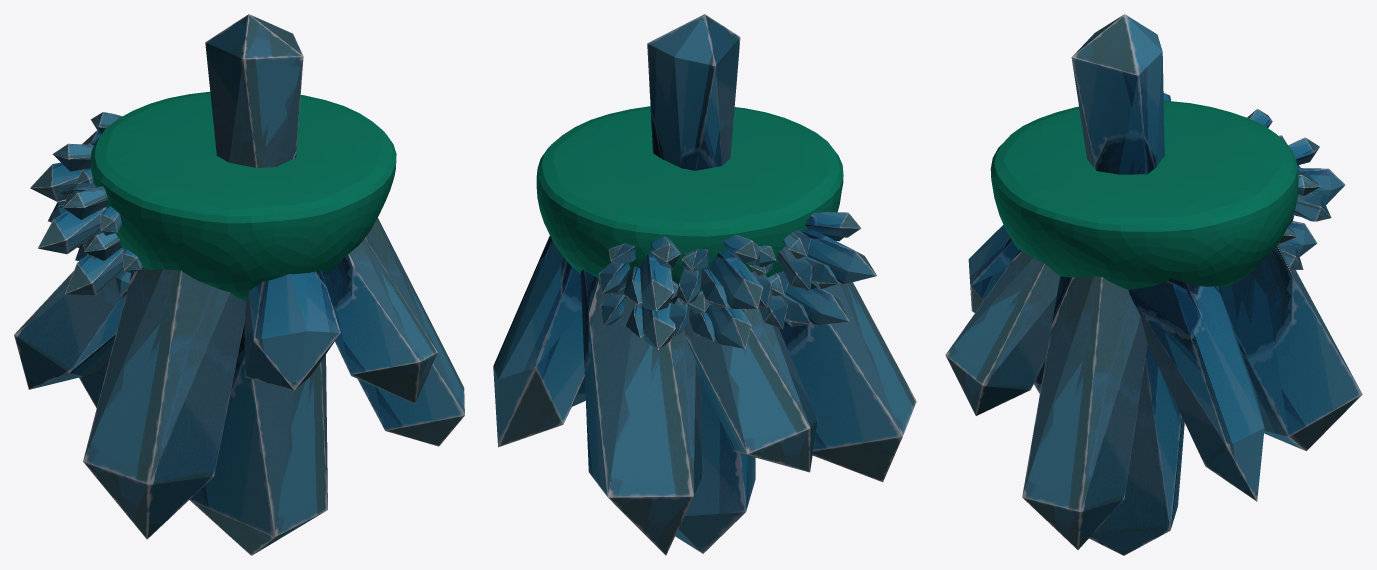
File: project.gltf
3 views of the same model, side by side, from view 1: azimuth 30°, elevation 25°; view 2: azimuth 150°, elevation 25°; view 3: azimuth 270°, elevation 25° (orthographic).
Visible parts, largest first — view 1: Icosphere, Icosphere.033_Icosphere.034, Icosphere.032_Icosphere.033, Icosphere.025_Icosphere.002, Icosphere.035_Icosphere.036, Icosphere.036_Icosphere.037, Icosphere.039_Icosphere.040, Icosphere.034_Icosphere.035, Icosphere.014_Icosphere.001, Icosphere.014_Icosphere.018, Icosphere.014_Icosphere.003, Icosphere.015_Icosphere.001 (+2 smaller); view 2: Icosphere, Icosphere.037_Icosphere.038, Icosphere.033_Icosphere.034, Icosphere.038_Icosphere.039, Icosphere.039_Icosphere.040, Icosphere.025_Icosphere.002, Icosphere.032_Icosphere.033, Icosphere.014_Icosphere.001, Icosphere.014_Icosphere.003, Icosphere.014_Icosphere.018, Icosphere.014_Icosphere.007, Icosphere.014_Icosphere.002 (+16 smaller); view 3: Icosphere, Icosphere.034_Icosphere.035, Icosphere.038_Icosphere.039, Icosphere.037_Icosphere.038, Icosphere.025_Icosphere.002, Icosphere.035_Icosphere.036, Icosphere.032_Icosphere.033, Icosphere.036_Icosphere.037, Icosphere.014_Icosphere.007, Icosphere.021_Icosphere.007, Icosphere.014_Icosphere.006, Icosphere.015_Icosphere.007.
Part boxes in pixels (box(x1,y1,x2,y2)): Icosphere: box(90, 91, 396, 300); Icosphere.033_Icosphere.034: box(83, 267, 245, 539); Icosphere.032_Icosphere.033: box(189, 322, 327, 555); Icosphere.025_Icosphere.002: box(205, 14, 303, 167); Icosphere.035_Icosphere.036: box(324, 238, 437, 403); Icosphere.036_Icosphere.037: box(244, 270, 340, 390); Icosphere.039_Icosphere.040: box(14, 271, 125, 389); Icosphere.034_Icosphere.035: box(357, 217, 464, 446); Icosphere.014_Icosphere.001: box(37, 207, 106, 254); Icosphere.014_Icosphere.018: box(65, 248, 123, 295); Icosphere.014_Icosphere.003: box(30, 162, 83, 201); Icosphere.015_Icosphere.001: box(63, 186, 107, 219); Icosphere: box(536, 106, 843, 291); Icosphere.037_Icosphere.038: box(580, 269, 702, 555); Icosphere.033_Icosphere.034: box(779, 281, 916, 482); Icosphere.038_Icosphere.039: box(493, 235, 584, 447); Icosphere.039_Icosphere.040: box(683, 307, 817, 472); Icosphere.025_Icosphere.002: box(647, 14, 740, 170); Icosphere.032_Icosphere.033: box(675, 381, 755, 553); Icosphere.014_Icosphere.001: box(802, 229, 876, 284); Icosphere.014_Icosphere.003: box(709, 252, 762, 309); Icosphere.014_Icosphere.018: box(785, 282, 849, 325); Icosphere.014_Icosphere.007: box(640, 253, 673, 310); Icosphere.014_Icosphere.002: box(706, 305, 751, 348); Icosphere: box(990, 100, 1298, 289); Icosphere.034_Icosphere.035: box(1022, 276, 1147, 549); Icosphere.038_Icosphere.039: box(1128, 278, 1264, 501); Icosphere.037_Icosphere.038: box(1220, 243, 1362, 451); Icosphere.025_Icosphere.002: box(1071, 14, 1164, 174); Icosphere.035_Icosphere.036: box(945, 250, 1060, 415); Icosphere.032_Icosphere.033: box(1089, 344, 1184, 555); Icosphere.036_Icosphere.037: box(968, 225, 1019, 312); Icosphere.014_Icosphere.007: box(1297, 168, 1345, 204); Icosphere.021_Icosphere.007: box(1293, 193, 1331, 221); Icosphere.014_Icosphere.006: box(1285, 221, 1317, 256); Icosphere.015_Icosphere.007: box(1288, 137, 1319, 165).
Bounding box in the file's own units: 3.51 × 4.72 × 3.3.
17 materials, 16 textured.
